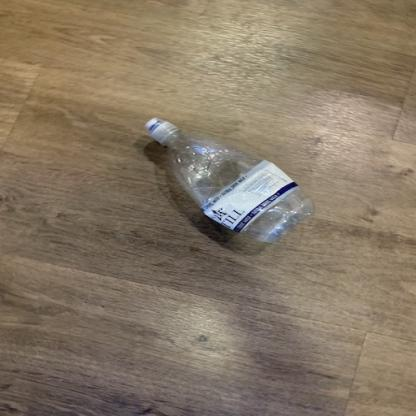trash: (144, 116, 321, 249)
